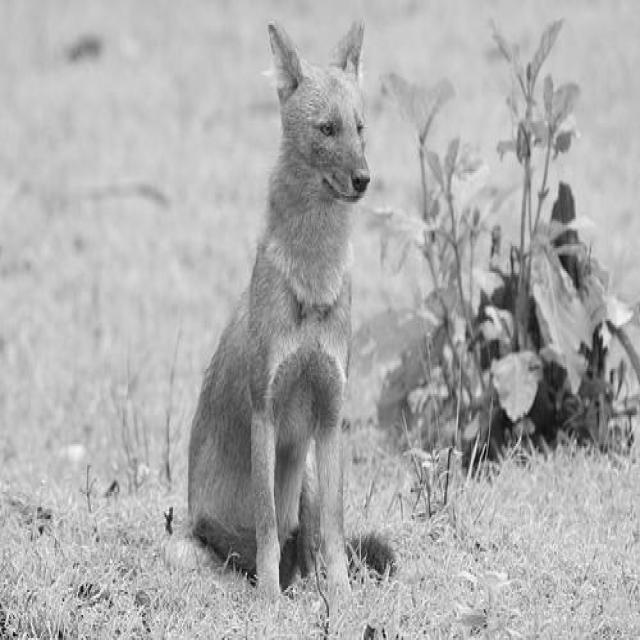sitting: (161, 10, 409, 612)
